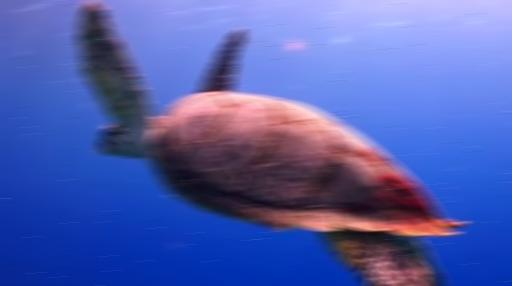Fish: (78, 0, 463, 285)
